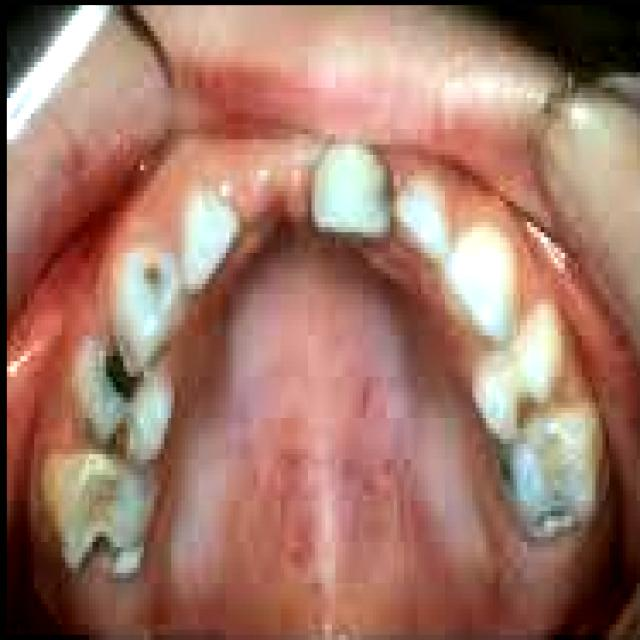cariess: (493, 403, 599, 532), (103, 346, 140, 397)
